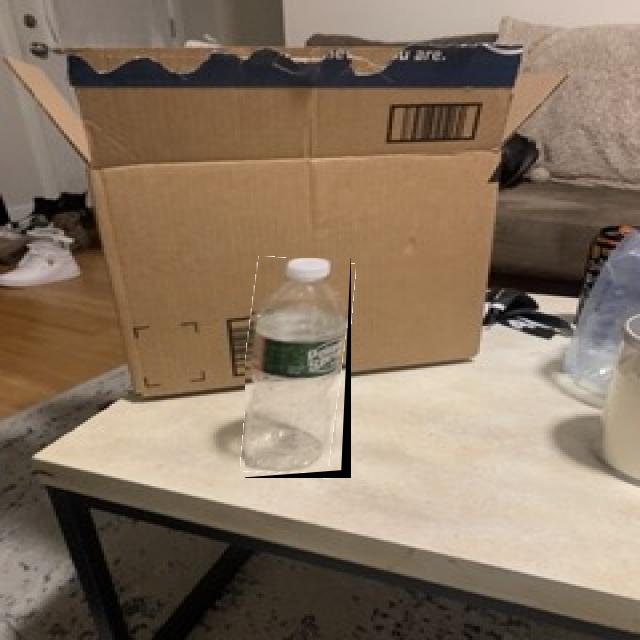water_bottle: (245, 258, 351, 478)
